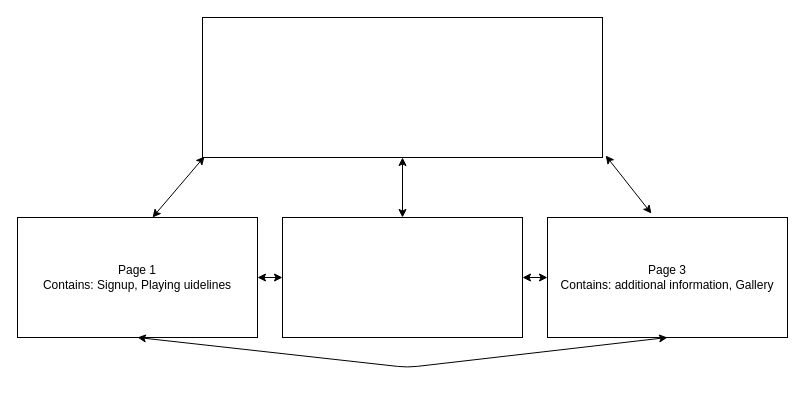
The diagram is 805 pixels wide and 394 high, and some of its shapes have lost their labels. Each missing label, with the centre of its shape:
Home Contains: Announcements, Season Ladder, Contact information: [402,87]
Page 2 Contains: Who can Play, About Volleyball: [402,277]
